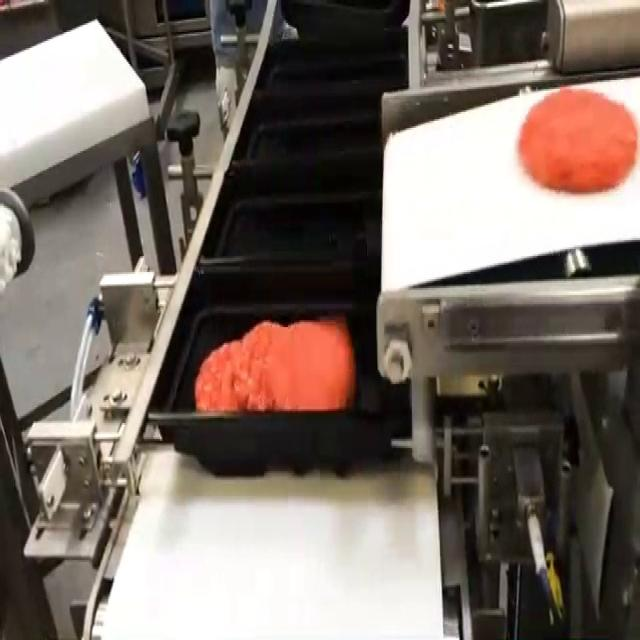hamburguer: (518, 89, 637, 190)
